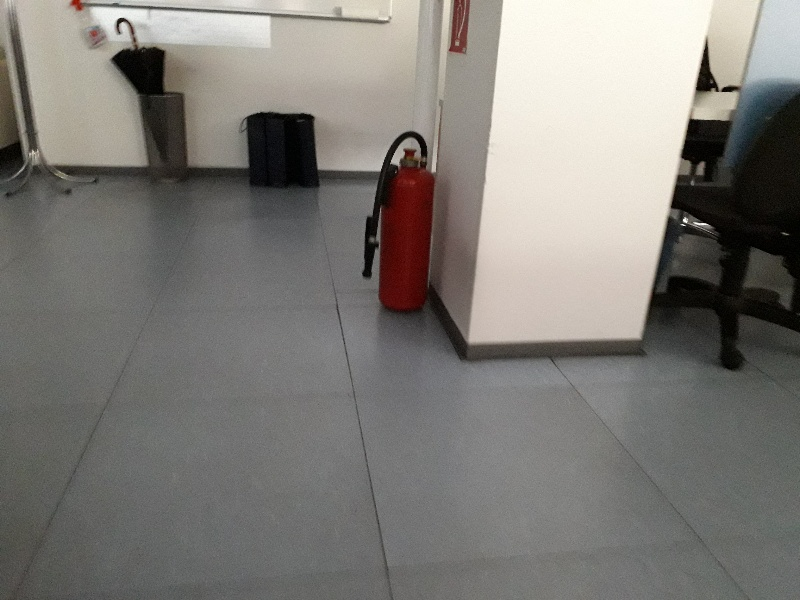vataparat: (363, 131, 435, 311)
